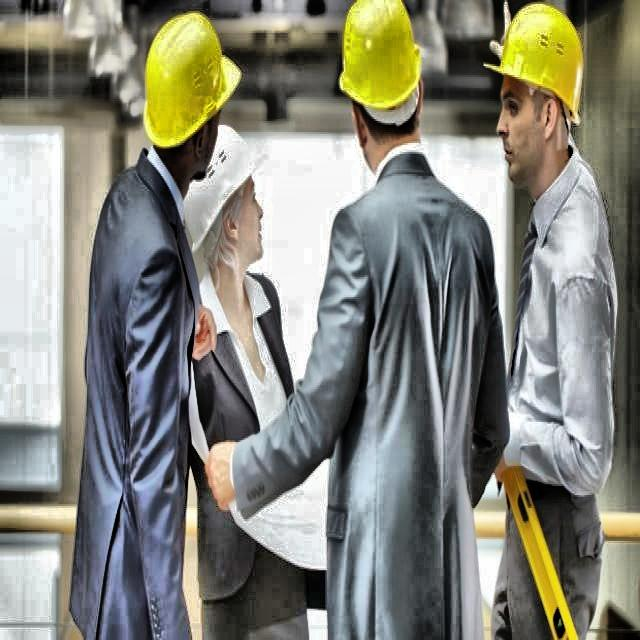person: (308, 0, 486, 640), (462, 0, 626, 640), (77, 13, 226, 640)
